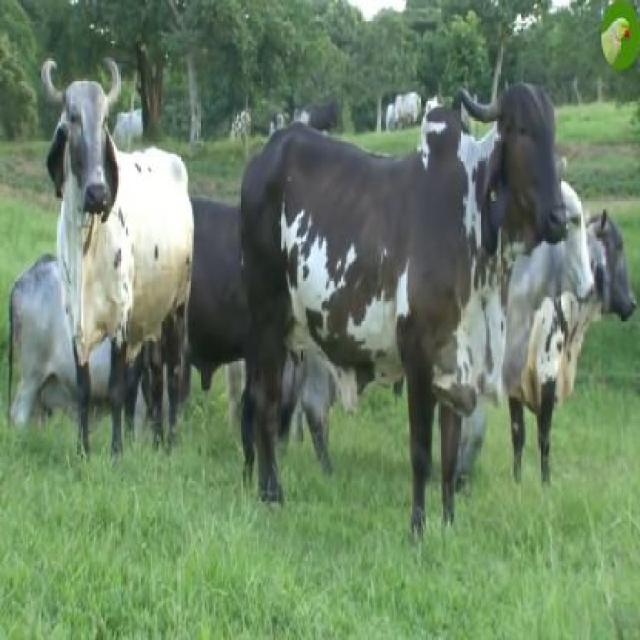Cow: (239, 79, 566, 518), (41, 57, 194, 451)
